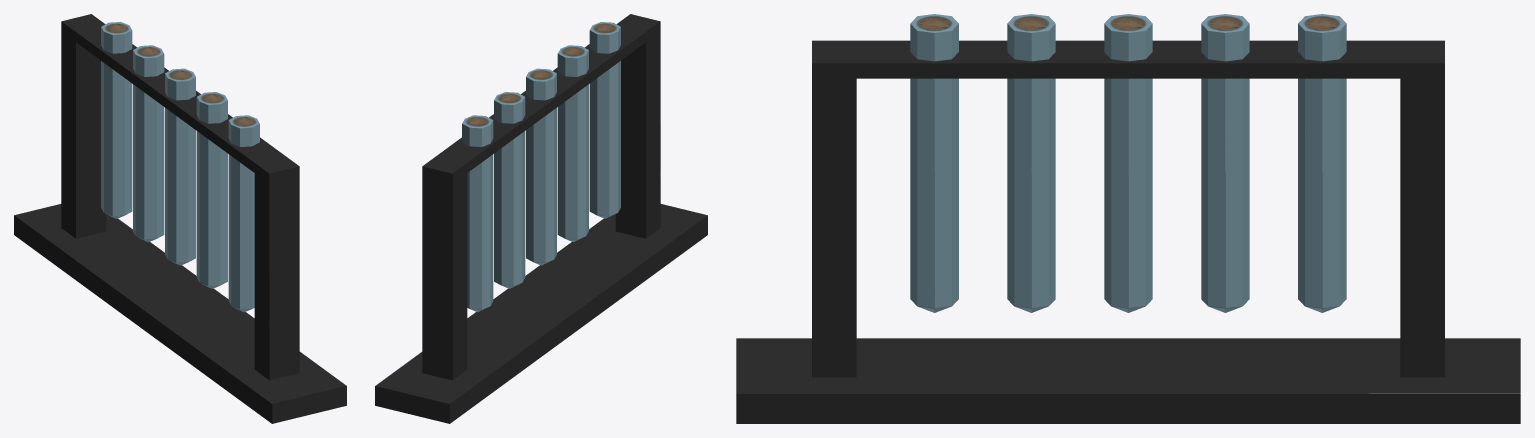
The model's file is vialrack.gltf.
The picture shows the model from 3 angles, left to right: view 1: azimuth 30°, elevation 25°; view 2: azimuth 150°, elevation 25°; view 3: azimuth 270°, elevation 25°; orthographic projection. The views are drawn at different scales.
Visible parts, largest first — view 1: vialrack; view 2: vialrack; view 3: vialrack.
Part boxes in pixels (<box>): vialrack: <box>14,14,346,423</box>; vialrack: <box>375,14,707,423</box>; vialrack: <box>736,14,1520,423</box>.
Size of the model in its own units: 0.1488 by 0.4667 by 0.8901.
Materials: 1 (1 with a texture image).
